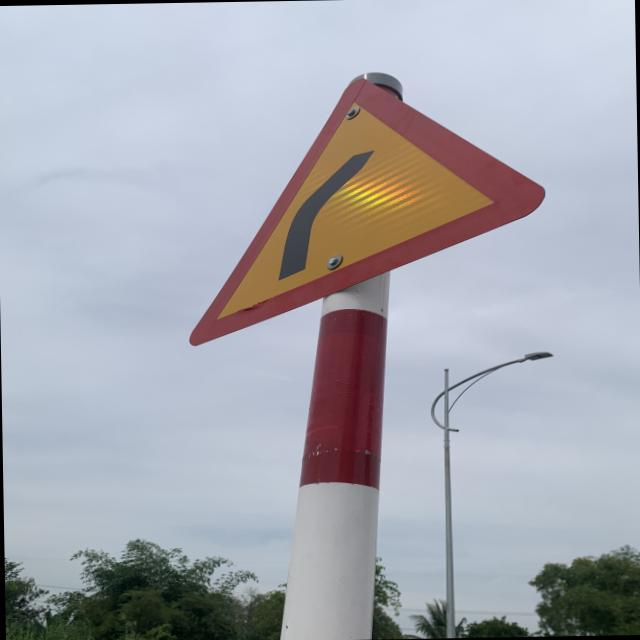Duong_Nguoi_Di_Bo_Cat_Ngang: (180, 74, 550, 354)
